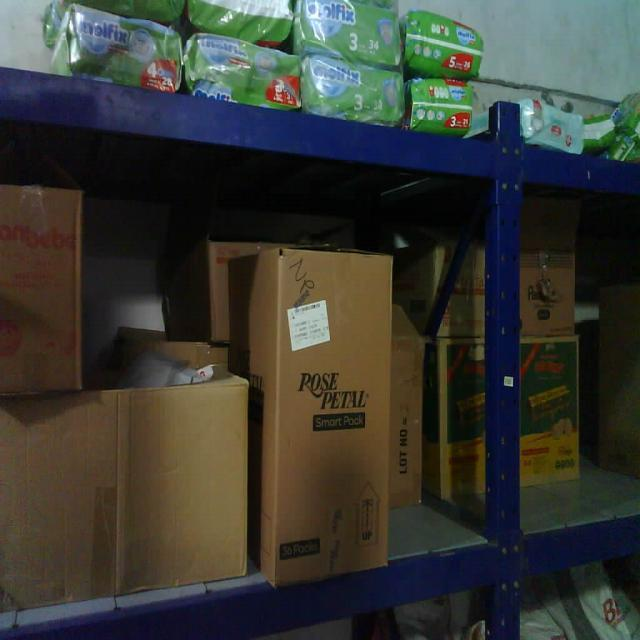cardboxes: (0, 383, 251, 602), (277, 246, 389, 583), (0, 185, 81, 387)
